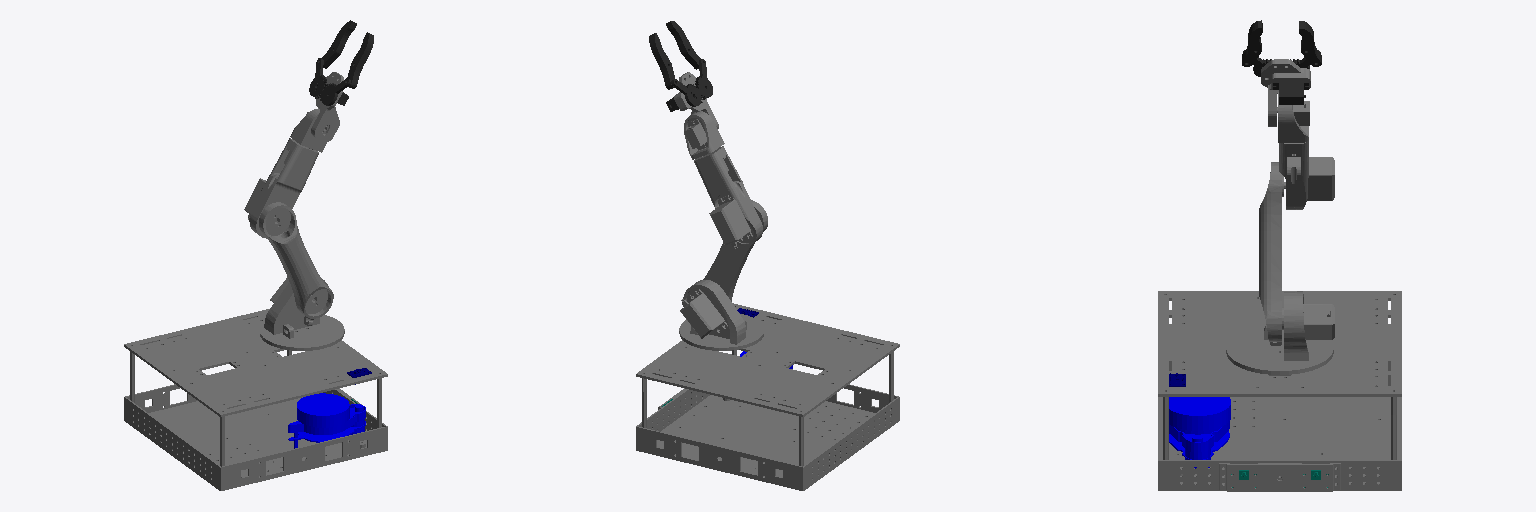
--- What the picture shows (computed from the rendered views, not written in the file) ---
3 views of the same robot in one strip: view 1: azimuth 30°, elevation 25°; view 2: azimuth 150°, elevation 25°; view 3: azimuth 270°, elevation 25° (orthographic).
Robot: mobile_base_arm — 21 links, 20 joints (7 revolute, 4 continuous, 9 fixed); root link base_link; default pose: all joints at 0.
Visible links, largest first — view 1: base_link, link_2, link_1, lidar_link, link_3, link_5, link_4, eef_finger_link_2, eef_finger_link_1; view 2: base_link, link_3, link_2, link_1, link_5, link_4, eef_finger_link_1, eef_finger_link_2, eef_link_1; view 3: base_link, link_2, link_1, lidar_link, camera_link, link_3, link_5, link_4, eef_link_1, eef_finger_link_1, eef_finger_link_2.
Link boxes in pixels (x1,y1,x2,y2): base_link: [124, 309, 387, 490]; link_2: [259, 202, 333, 325]; link_1: [260, 279, 344, 350]; lidar_link: [288, 393, 365, 448]; link_3: [244, 138, 318, 238]; link_5: [307, 72, 343, 141]; link_4: [284, 108, 326, 163]; eef_finger_link_2: [347, 32, 373, 88]; eef_finger_link_1: [321, 20, 356, 68]; base_link: [636, 303, 899, 490]; link_3: [694, 146, 762, 248]; link_2: [680, 200, 767, 338]; link_1: [679, 280, 763, 350]; link_5: [674, 72, 718, 148]; link_4: [684, 111, 728, 171]; eef_finger_link_1: [649, 33, 674, 89]; eef_finger_link_2: [666, 21, 700, 69]; eef_link_1: [666, 79, 702, 111]; base_link: [1158, 291, 1401, 490]; link_2: [1259, 162, 1334, 345]; link_1: [1226, 291, 1333, 374]; lidar_link: [1169, 397, 1230, 468]; camera_link: [1219, 463, 1340, 491]; link_3: [1279, 140, 1334, 209]; link_5: [1261, 59, 1310, 126]; link_4: [1278, 92, 1308, 156]; eef_link_1: [1273, 50, 1320, 104]; eef_finger_link_1: [1299, 21, 1321, 66]; eef_finger_link_2: [1242, 20, 1262, 66].
Size in the robot's own frame: 0.2538 by 0.22 by 0.4808 metres.
Meshes: 21 distinct files referenced, 17 mesh visuals loaded (17 binary STL); not drawn: 4 (reference not matched to a file when rendering).

URDF robot description (mobile_base_arm):
<?xml version="1.0" encoding="utf-8"?>
<!-- This URDF was automatically created by SolidWorks to URDF Exporter! Originally created by Stephen Brawner ([email redacted]) 
     Commit Version: 1.6.0-1-g15f4949  Build Version: 1.6.7594.29634
     For more information, please see http://wiki.ros.org/sw_urdf_exporter -->
<robot
  name="mobile_base_arm">
  <link
    name="base_link">
    <inertial>
      <origin
        xyz="0.000319009600201481 -0.000666770976785788 0.0586004870049367"
        rpy="0 0 0" />
      <mass
        value="0.374892757850051" />
      <inertia
        ixx="0.00148065842547931"
        ixy="4.45853049505942E-06"
        ixz="-2.24476310604444E-08"
        iyy="0.00150620679112831"
        iyz="2.34150704704751E-07"
        izz="0.00296347734947406" />
    </inertial>
    <visual>
      <origin
        xyz="0 0 0"
        rpy="0 0 0" />
      <geometry>
        <mesh
          filename="package://mobile_base_arm/meshes/base_link.STL" />
      </geometry>
      <material
        name="">
        <color
          rgba="0.5 0.5 0.5 1" />
      </material>
    </visual>
    <collision>
      <origin
        xyz="0 0 0"
        rpy="0 0 0" />
      <geometry>
        <mesh
          filename="package://mobile_base_arm/meshes/base_link.STL" />
      </geometry>
    </collision>
  </link>
  <link
    name="fl_wheel_link">
    <inertial>
      <origin
        xyz="5.0515E-15 1.5127E-15 -9.4853E-05"
        rpy="0 0 0" />
      <mass
        value="0.041913" />
      <inertia
        ixx="3.6789E-06"
        ixy="6.9186E-21"
        ixz="-3.6443E-22"
        iyy="3.6789E-06"
        iyz="4.1837E-22"
        izz="3.5669E-06" />
    </inertial>
    <visual>
      <origin
        xyz="0 0 0"
        rpy="0 0 0" />
      <geometry>
        <mesh
          filename="package://mobile_base_arm/meshes/fl_wheel_link.STL" />
      </geometry>
      <material
        name="">
        <color
          rgba="1 1 0 1" />
      </material>
    </visual>
    <collision>
      <origin
        xyz="0 0 0"
        rpy="0 0 0" />
      <geometry>
        <mesh
          filename="package://mobile_base_arm/meshes/fl_wheel_link.STL" />
      </geometry>
    </collision>
  </link>
  <joint
    name="fl_wheel_joint"
    type="continuous">
    <origin
      xyz="0.078747 0.14588 0.029654"
      rpy="1.5708 0 -3.1416" />
    <parent
      link="base_link" />
    <child
      link="fl_wheel_link" />
    <axis
      xyz="0 0 1" />
  </joint>
  <link
    name="bl_wheel_link">
    <inertial>
      <origin
        xyz="2.9421E-15 4.5103E-15 9.4853E-05"
        rpy="0 0 0" />
      <mass
        value="0.041913" />
      <inertia
        ixx="3.6789E-06"
        ixy="4.5166E-21"
        ixz="-3.9322E-22"
        iyy="3.6789E-06"
        iyz="6.8692E-23"
        izz="3.5669E-06" />
    </inertial>
    <visual>
      <origin
        xyz="0 0 0"
        rpy="0 0 0" />
      <geometry>
        <mesh
          filename="package://mobile_base_arm/meshes/bl_wheel_link.STL" />
      </geometry>
      <material
        name="">
        <color
          rgba="1 1 0 1" />
      </material>
    </visual>
    <collision>
      <origin
        xyz="0 0 0"
        rpy="0 0 0" />
      <geometry>
        <mesh
          filename="package://mobile_base_arm/meshes/bl_wheel_link.STL" />
      </geometry>
    </collision>
  </link>
  <joint
    name="bl_wheel_joint"
    type="continuous">
    <origin
      xyz="-0.078453 0.14588 0.029654"
      rpy="1.5708 0 -3.1416" />
    <parent
      link="base_link" />
    <child
      link="bl_wheel_link" />
    <axis
      xyz="0 0 -1" />
  </joint>
  <link
    name="fr_wheel_link">
    <inertial>
      <origin
        xyz="0 1.3878E-17 -7.0631E-05"
        rpy="0 0 0" />
      <mass
        value="0.041913" />
      <inertia
        ixx="3.6789E-06"
        ixy="-7.5704E-21"
        ixz="-2.4967E-21"
        iyy="3.6789E-06"
        iyz="3.1065E-23"
        izz="3.5671E-06" />
    </inertial>
    <visual>
      <origin
        xyz="0 0 0"
        rpy="0 0 0" />
      <geometry>
        <mesh
          filename="package://mobile_base_arm/meshes/fr_wheel_link.STL" />
      </geometry>
      <material
        name="">
        <color
          rgba="1 1 0 1" />
      </material>
    </visual>
    <collision>
      <origin
        xyz="0 0 0"
        rpy="0 0 0" />
      <geometry>
        <mesh
          filename="package://mobile_base_arm/meshes/fr_wheel_link.STL" />
      </geometry>
    </collision>
  </link>
  <joint
    name="fr_wheel_joint"
    type="continuous">
    <origin
      xyz="0.078747 -0.14712 0.029654"
      rpy="1.5708 0 0" />
    <parent
      link="base_link" />
    <child
      link="fr_wheel_link" />
    <axis
      xyz="0 0 1" />
  </joint>
  <link
    name="br_wheel_link">
    <inertial>
      <origin
        xyz="0 1.1102E-16 -7.0631E-05"
        rpy="0 0 0" />
      <mass
        value="0.041913" />
      <inertia
        ixx="3.6789E-06"
        ixy="-8.0203E-21"
        ixz="-1.0462E-21"
        iyy="3.6789E-06"
        iyz="7.9773E-22"
        izz="3.5671E-06" />
    </inertial>
    <visual>
      <origin
        xyz="0 0 0"
        rpy="0 0 0" />
      <geometry>
        <mesh
          filename="package://mobile_base_arm/meshes/br_wheel_link.STL" />
      </geometry>
      <material
        name="">
        <color
          rgba="1 1 0 1" />
      </material>
    </visual>
    <collision>
      <origin
        xyz="0 0 0"
        rpy="0 0 0" />
      <geometry>
        <mesh
          filename="package://mobile_base_arm/meshes/br_wheel_link.STL" />
      </geometry>
    </collision>
  </link>
  <joint
    name="br_wheel_joint"
    type="continuous">
    <origin
      xyz="-0.078453 -0.14712 0.029654"
      rpy="1.5708 0 0" />
    <parent
      link="base_link" />
    <child
      link="br_wheel_link" />
    <axis
      xyz="0 0 1" />
  </joint>
  <link
    name="lidar_link">
    <inertial>
      <origin
        xyz="0.0059879 6.8946E-07 -0.0087379"
        rpy="0 0 0" />
      <mass
        value="0.090024" />
      <inertia
        ixx="2.0425E-05"
        ixy="2.8228E-09"
        ixz="2.9686E-06"
        iyy="3.8887E-05"
        iyz="8.5101E-10"
        izz="5.2888E-05" />
    </inertial>
    <visual>
      <origin
        xyz="0 0 0"
        rpy="0 0 0" />
      <geometry>
        <mesh
          filename="package://mobile_base_arm/meshes/lidar_link.STL" />
      </geometry>
      <material
        name="">
        <color
          rgba="0 0 1 1" />
      </material>
    </visual>
    <collision>
      <origin
        xyz="0 0 0"
        rpy="0 0 0" />
      <geometry>
        <mesh
          filename="package://mobile_base_arm/meshes/lidar_link.STL" />
      </geometry>
    </collision>
  </link>
  <joint
    name="lidar_joint"
    type="fixed">
    <origin
      xyz="0.045447 -0.074817 0.0658"
      rpy="0 0 0" />
    <parent
      link="base_link" />
    <child
      link="lidar_link" />
    <axis
      xyz="0 0 0" />
  </joint>
  <link
    name="link_1">
    <inertial>
      <origin
        xyz="0.001372 0.0064346 0.017289"
        rpy="0 0 0" />
      <mass
        value="0.068038" />
      <inertia
        ixx="4.5018E-05"
        ixy="-6.4176E-07"
        ixz="-6.2427E-06"
        iyy="5.8133E-05"
        iyz="-5.1777E-06"
        izz="5.4676E-05" />
    </inertial>
    <visual>
      <origin
        xyz="0 0 0"
        rpy="0 0 0" />
      <geometry>
        <mesh
          filename="package://mobile_base_arm/meshes/link_1.STL" />
      </geometry>
      <material
        name="">
        <color
          rgba="0.5 0.5 0.5 1" />
      </material>
    </visual>
    <collision>
      <origin
        xyz="0 0 0"
        rpy="0 0 0" />
      <geometry>
        <mesh
          filename="package://mobile_base_arm/meshes/link_1.STL" />
      </geometry>
    </collision>
  </link>
  <joint
    name="joint_1"
    type="revolute">
    <origin
      xyz="0.060647 -0.00061982 0.1296"
      rpy="0 0 0" />
    <parent
      link="base_link" />
    <child
      link="link_1" />
    <axis
      xyz="0 0 1" />
    <limit
      lower="-3.1416"
      upper="3.1416"
      effort="0"
      velocity="0" />
  </joint>
  <link
    name="link_2">
    <inertial>
      <origin
        xyz="-0.018035 0.032676 -0.0042316"
        rpy="0 0 0" />
      <mass
        value="0.098269" />
      <inertia
        ixx="9.8625E-05"
        ixy="3.4452E-05"
        ixz="-2.9438E-07"
        iyy="3.294E-05"
        iyz="2.1721E-08"
        izz="0.00011786" />
    </inertial>
    <visual>
      <origin
        xyz="0 0 0"
        rpy="0 0 0" />
      <geometry>
        <mesh
          filename="package://mobile_base_arm/meshes/link_2.STL" />
      </geometry>
      <material
        name="">
        <color
          rgba="0.5 0.5 0.5 1" />
      </material>
    </visual>
    <collision>
      <origin
        xyz="0 0 0"
        rpy="0 0 0" />
      <geometry>
        <mesh
          filename="package://mobile_base_arm/meshes/link_2.STL" />
      </geometry>
    </collision>
  </link>
  <joint
    name="joint_2"
    type="revolute">
    <origin
      xyz="0.013741729606692 0.00180000000000001 0.0404532568712298"
      rpy="1.5707963267949 0 0" />
    <parent
      link="link_1" />
    <child
      link="link_2" />
    <axis
      xyz="0 0 1" />
    <limit
      lower="-1.4"
      upper="1.4"
      effort="0"
      velocity="0" />
  </joint>
  <link
    name="link_3">
    <inertial>
      <origin
        xyz="0.013721 0.023715 -0.017225"
        rpy="0 0 0" />
      <mass
        value="0.084145" />
      <inertia
        ixx="5.1677E-05"
        ixy="-2.1371E-05"
        ixz="2.867E-07"
        iyy="2.7629E-05"
        iyz="4.8877E-07"
        izz="6.4165E-05" />
    </inertial>
    <visual>
      <origin
        xyz="0 0 0"
        rpy="0 0 0" />
      <geometry>
        <mesh
          filename="package://mobile_base_arm/meshes/link_3.STL" />
      </geometry>
      <material
        name="">
        <color
          rgba="0.5 0.5 0.5 1" />
      </material>
    </visual>
    <collision>
      <origin
        xyz="0 0 0"
        rpy="0 0 0" />
      <geometry>
        <mesh
          filename="package://mobile_base_arm/meshes/link_3.STL" />
      </geometry>
    </collision>
  </link>
  <joint
    name="joint_3"
    type="revolute">
    <origin
      xyz="-0.0486912069159769 0.109677556359838 0"
      rpy="0 0 0" />
    <parent
      link="link_2" />
    <child
      link="link_3" />
    <axis
      xyz="0 0 1" />
    <limit
      lower="-1.4"
      upper="1.4"
      effort="0"
      velocity="0" />
  </joint>
  <link
    name="link_4">
    <inertial>
      <origin
        xyz="0.00023919 -0.0034536 0.0072121"
        rpy="0 0 0" />
      <mass
        value="0.023628" />
      <inertia
        ixx="4.3645E-06"
        ixy="3.9934E-09"
        ixz="-4.8582E-08"
        iyy="5.6713E-06"
        iyz="5.7578E-07"
        izz="2.9871E-06" />
    </inertial>
    <visual>
      <origin
        xyz="0 0 0"
        rpy="0 0 0" />
      <geometry>
        <mesh
          filename="package://mobile_base_arm/meshes/link_4.STL" />
      </geometry>
      <material
        name="">
        <color
          rgba="0.5 0.5 0.5 1" />
      </material>
    </visual>
    <collision>
      <origin
        xyz="0 0 0"
        rpy="0 0 0" />
      <geometry>
        <mesh
          filename="package://mobile_base_arm/meshes/link_4.STL" />
      </geometry>
    </collision>
  </link>
  <joint
    name="joint_4"
    type="revolute">
    <origin
      xyz="0.0462467946124107 0.0790683813413976 -0.0104772836816603"
      rpy="-1.5707963267949 0 -0.530574095256852" />
    <parent
      link="link_3" />
    <child
      link="link_4" />
    <axis
      xyz="0 0 1" />
    <limit
      lower="-1.4"
      upper="1.4"
      effort="0"
      velocity="0" />
  </joint>
  <link
    name="link_5">
    <inertial>
      <origin
        xyz="0.014865 0.0034873 -0.006785"
        rpy="0 0 0" />
      <mass
        value="0.02285" />
      <inertia
        ixx="2.932E-06"
        ixy="-1.1857E-06"
        ixz="1.4019E-06"
        iyy="8.8454E-06"
        iyz="3.0497E-07"
        izz="7.6221E-06" />
    </inertial>
    <visual>
      <origin
        xyz="0 0 0"
        rpy="0 0 0" />
      <geometry>
        <mesh
          filename="package://mobile_base_arm/meshes/link_5.STL" />
      </geometry>
      <material
        name="">
        <color
          rgba="0.5 0.5 0.5 1" />
      </material>
    </visual>
    <collision>
      <origin
        xyz="0 0 0"
        rpy="0 0 0" />
      <geometry>
        <mesh
          filename="package://mobile_base_arm/meshes/link_5.STL" />
      </geometry>
    </collision>
  </link>
  <joint
    name="joint_5"
    type="revolute">
    <origin
      xyz="0.00017223 -0.015127 0.028"
      rpy="1.5708 -1.5708 0" />
    <parent
      link="link_4" />
    <child
      link="link_5" />
    <axis
      xyz="0 0 1" />
    <limit
      lower="-1.4"
      upper="1.4"
      effort="0"
      velocity="0" />
  </joint>
  <link
    name="eef_link_1">
    <inertial>
      <origin
        xyz="-0.0013154 -0.0026977 0.011688"
        rpy="0 0 0" />
      <mass
        value="0.0096944" />
      <inertia
        ixx="8.3937E-07"
        ixy="1.3228E-07"
        ixz="1.5882E-22"
        iyy="7.1486E-07"
        iyz="3.7047E-08"
        izz="8.2078E-07" />
    </inertial>
    <visual>
      <origin
        xyz="0 0 0"
        rpy="0 0 0" />
      <geometry>
        <mesh
          filename="package://mobile_base_arm/meshes/eef_link_1.STL" />
      </geometry>
      <material
        name="">
        <color
          rgba="0.2 0.2 0.2 1" />
      </material>
    </visual>
    <collision>
      <origin
        xyz="0 0 0"
        rpy="0 0 0" />
      <geometry>
        <mesh
          filename="package://mobile_base_arm/meshes/eef_link_1.STL" />
      </geometry>
    </collision>
  </link>
  <joint
    name="eef_joint_1"
    type="revolute">
    <origin
      xyz="0.038466720887356 0.014139797883076 -0.0179"
      rpy="-1.5707963267949 0 3.10994225522667" />
    <parent
      link="link_5" />
    <child
      link="eef_link_1" />
    <axis
      xyz="0 0 -1" />
    <limit
      lower="-1"
      upper="1"
      effort="0"
      velocity="0" />
  </joint>
  <link
    name="eef_finger_link_1">
    <inertial>
      <origin
        xyz="-0.026471 -0.0065368 0.00074998"
        rpy="0 0 0" />
      <mass
        value="0.0053975" />
      <inertia
        ixx="1.3369E-07"
        ixy="-2.5928E-07"
        ixz="-1.0206E-12"
        iyy="1.6452E-06"
        iyz="-1.3992E-11"
        izz="1.7139E-06" />
    </inertial>
    <visual>
      <origin
        xyz="0 0 0"
        rpy="0 0 0" />
      <geometry>
        <mesh
          filename="package://mobile_base_arm/meshes/eef_finger_link_1.STL" />
      </geometry>
      <material
        name="">
        <color
          rgba="0.2 0.2 0.2 1" />
      </material>
    </visual>
    <collision>
      <origin
        xyz="0 0 0"
        rpy="0 0 0" />
      <geometry>
        <mesh
          filename="package://mobile_base_arm/meshes/eef_finger_link_1.STL" />
      </geometry>
    </collision>
  </link>
  <joint
    name="eef_finger_joint_1"
    type="fixed">
    <origin
      xyz="-0.0250754321495898 0.0177984606781366 0.00134999999999999"
      rpy="0 0 0" />
    <parent
      link="eef_link_1" />
    <child
      link="eef_finger_link_1" />
    <axis
      xyz="0 0 0" />
  </joint>
  <link
    name="eef_link_2">
    <inertial>
      <origin
        xyz="-0.004888 -0.0027553 -0.00415"
        rpy="0 0 0" />
      <mass
        value="0.0026416" />
      <inertia
        ixx="1.9158E-07"
        ixy="-1.3273E-07"
        ixz="1.3235E-22"
        iyy="2.6271E-07"
        iyz="6.6174E-24"
        izz="4.4724E-07" />
    </inertial>
    <visual>
      <origin
        xyz="0 0 0"
        rpy="0 0 0" />
      <geometry>
        <mesh
          filename="package://mobile_base_arm/meshes/eef_link_2.STL" />
      </geometry>
      <material
        name="">
        <color
          rgba="0.2 0.2 0.2 1" />
      </material>
    </visual>
    <collision>
      <origin
        xyz="0 0 0"
        rpy="0 0 0" />
      <geometry>
        <mesh
          filename="package://mobile_base_arm/meshes/eef_link_2.STL" />
      </geometry>
    </collision>
  </link>
  <joint
    name="eef_joint_2"
    type="revolute">
    <origin
      xyz="0.038466720887356 0.014139797883076 0.00899999999999998"
      rpy="-1.5707963267949 0 3.10994225522667" />
    <parent
      link="link_5" />
    <child
      link="eef_link_2" />
    <axis
      xyz="0 0 -1" />
    <limit
      lower="-1"
      upper="1"
      effort="0"
      velocity="0" />
  </joint>
  <link
    name="eef_finger_link_2">
    <inertial>
      <origin
        xyz="-0.026643 0.0057965 0.00075002"
        rpy="0 0 0" />
      <mass
        value="0.0053975" />
      <inertia
        ixx="1.2042E-07"
        ixy="2.1676E-07"
        ixz="1.4115E-12"
        iyy="1.6585E-06"
        iyz="-1.3958E-11"
        izz="1.7139E-06" />
    </inertial>
    <visual>
      <origin
        xyz="0 0 0"
        rpy="0 0 0" />
      <geometry>
        <mesh
          filename="package://mobile_base_arm/meshes/eef_finger_link_2.STL" />
      </geometry>
      <material
        name="">
        <color
          rgba="0.2 0.2 0.2 1" />
      </material>
    </visual>
    <collision>
      <origin
        xyz="0 0 0"
        rpy="0 0 0" />
      <geometry>
        <mesh
          filename="package://mobile_base_arm/meshes/eef_finger_link_2.STL" />
      </geometry>
    </collision>
  </link>
  <joint
    name="eef_finger_joint_2"
    type="fixed">
    <origin
      xyz="-0.025013 -0.017886 0.00135"
      rpy="0 0 0" />
    <parent
      link="eef_link_2" />
    <child
      link="eef_finger_link_2" />
    <axis
      xyz="0 0 0" />
  </joint>
  <!-- <link
    name="MPU9250_fl">
    <inertial>
      <origin
        xyz="-0.00044106 8.8161E-05 -0.0010426"
        rpy="0 0 0" />
      <mass
        value="0.00062885" />
      <inertia
        ixx="2.8418E-08"
        ixy="-4.5775E-14"
        ixz="-3.7528E-14"
        iyy="1.0661E-08"
        iyz="4.2588E-14"
        izz="3.7595E-08" />
    </inertial>
    <visual>
      <origin
        xyz="0 0 0"
        rpy="0 0 0" />
      <geometry>
        <mesh
          filename="package://mobile_base_arm/meshes/MPU9250_fl.STL" />
      </geometry>
      <material
        name="">
        <color
          rgba="0 0 0.5 1" />
      </material>
    </visual>
    <collision>
      <origin
        xyz="0 0 0"
        rpy="0 0 0" />
      <geometry>
        <mesh
          filename="package://mobile_base_arm/meshes/MPU9250_fl.STL" />
      </geometry>
    </collision>
  </link>
  <joint
    name="MPU9250_fl_joint"
    type="fixed">
    <origin
      xyz="0.082447 0.092197 0.11257"
      rpy="0 0 -1.5708" />
    <parent
      link="base_link" />
    <child
      link="MPU9250_fl" />
    <axis
      xyz="0 0 0" />
  </joint>
  <link
    name="MPU6050_fl">
    <inertial>
      <origin
        xyz="-0.00081359 5.5683E-05 -0.00080828"
        rpy="0 0 0" />
      <mass
        value="0.0010017" />
      <inertia
        ixx="3.0394E-08"
        ixy="1.306E-11"
        ixz="-6.2461E-14"
        iyy="1.6953E-08"
        iyz="3.3681E-18"
        izz="4.6329E-08" />
    </inertial>
    <visual>
      <origin
        xyz="0 0 0"
        rpy="0 0 0" />
      <geometry>
        <mesh
          filename="package://mobile_base_arm/meshes/MPU6050_fl.STL" />
      </geometry>
      <material
        name="">
        <color
          rgba="0 0 0.5 1" />
      </material>
    </visual>
    <collision>
      <origin
        xyz="0 0 0"
        rpy="0 0 0" />
      <geometry>
        <mesh
          filename="package://mobile_base_arm/meshes/MPU6050_fl.STL" />
      </geometry>
    </collision>
  </link>
  <joint
    name="MPU6050_fl_joint"
    type="fixed">
    <origin
      xyz="0.049694 0.091495 0.11214"
      rpy="0 0 -1.5708" />
    <parent
      link="base_link" />
    <child
      link="MPU6050_fl" />
    <axis
      xyz="0 0 0" />
  </joint> -->
  <link
    name="MPU9250_fr">
    <inertial>
      <origin
        xyz="-0.00044106 8.8161E-05 -0.0010426"
        rpy="0 0 0" />
      <mass
        value="0.00062885" />
      <inertia
        ixx="2.8418E-08"
        ixy="-4.5775E-14"
        ixz="-3.7528E-14"
        iyy="1.0661E-08"
        iyz="4.2588E-14"
        izz="3.7595E-08" />
    </inertial>
    <visual>
      <origin
        xyz="0 0 0"
        rpy="0 0 1.5708" />
      <geometry>
        <mesh
          filename="package://mobile_base_arm/meshes/MPU9250_fr.STL" />
      </geometry>
      <material
        name="">
        <color
          rgba="0 0 0.5 1" />
      </material>
    </visual>
    <collision>
      <origin
        xyz="0 0 0"
        rpy="0 0 1.5708" />
      <geometry>
        <mesh
          filename="package://mobile_base_arm/meshes/MPU9250_fr.STL" />
      </geometry>
    </collision>
  </link>
  <joint
    name="MPU9250_fr_joint"
    type="fixed">
    <origin
      xyz="0.082437 -0.093437 0.11257"
      rpy="0 0 0" />
    <parent
      link="base_link" />
    <child
      link="MPU9250_fr" />
    <axis
      xyz="0 0 0" />
  </joint>
  <!-- <link
    name="MPU6050_fr">
    <inertial>
      <origin
        xyz="-0.00081359 5.5683E-05 -0.00080828"
        rpy="0 0 0" />
      <mass
        value="0.0010017" />
      <inertia
        ixx="3.0394E-08"
        ixy="1.306E-11"
        ixz="-6.2461E-14"
        iyy="1.6953E-08"
        iyz="3.3681E-18"
        izz="4.6329E-08" />
    </inertial>
    <visual>
      <origin
        xyz="0 0 0"
        rpy="0 0 0" />
      <geometry>
        <mesh
          filename="package://mobile_base_arm/meshes/MPU6050_fr.STL" />
      </geometry>
      <material
        name="">
        <color
          rgba="0 0 0.5 1" />
      </material>
    </visual>
    <collision>
      <origin
        xyz="0 0 0"
        rpy="0 0 0" />
      <geometry>
        <mesh
          filename="package://mobile_base_arm/meshes/MPU6050_fr.STL" />
      </geometry>
    </collision>
  </link>
  <joint
    name="MPU6050_fr_joint"
    type="fixed">
    <origin
      xyz="0.04946 -0.092735 0.11214"
      rpy="0 0 1.5708" />
    <parent
      link="base_link" />
    <child
      link="MPU6050_fr" />
    <axis
      xyz="0 0 0" />
  </joint>
  <link
    name="MPU9250_bl">
    <inertial>
      <origin
        xyz="-0.00044106 8.8161E-05 -0.0010426"
        rpy="0 0 0" />
      <mass
        value="0.00062885" />
      <inertia
        ixx="2.8418E-08"
        ixy="-4.5775E-14"
        ixz="-3.7528E-14"
        iyy="1.0661E-08"
        iyz="4.2588E-14"
        izz="3.7595E-08" />
    </inertial>
    <visual>
      <origin
        xyz="0 0 0"
        rpy="0 0 0" />
      <geometry>
        <mesh
          filename="package://mobile_base_arm/meshes/MPU9250_bl.STL" />
      </geometry>
      <material
        name="">
        <color
          rgba="0 0 0.5 1" />
      </material>
    </visual>
    <collision>
      <origin
        xyz="0 0 0"
        rpy="0 0 0" />
      <geometry>
        <mesh
          filename="package://mobile_base_arm/meshes/MPU9250_bl.STL" />
      </geometry>
    </collision>
  </link>
  <joint
    name="MPU9250_bl_joint"
    type="fixed">
    <origin
      xyz="-0.082143 0.092197 0.11257"
      rpy="0 0 -1.5708" />
    <parent
      link="base_link" />
    <child
      link="MPU9250_bl" />
    <axis
      xyz="0 0 0" />
  </joint>
  <link
    name="MPU6050_bl">
    <inertial>
      <origin
        xyz="-0.00081359 5.5683E-05 -0.00080828"
        rpy="0 0 0" />
      <mass
        value="0.0010017" />
      <inertia
        ixx="3.0394E-08"
        ixy="1.306E-11"
        ixz="-6.2461E-14"
        iyy="1.6953E-08"
        iyz="3.3681E-18"
        izz="4.6329E-08" />
    </inertial>
    <visual>
      <origin
        xyz="0 0 0"
        rpy="0 0 0" />
      <geometry>
        <mesh
          filename="package://mobile_base_arm/meshes/MPU6050_bl.STL" />
      </geometry>
      <material
        name="">
        <color
          rgba="0 0 0.5 1" />
      </material>
    </visual>
    <collision>
      <origin
        xyz="0 0 0"
        rpy="0 0 0" />
      <geometry>
        <mesh
          filename="package://mobile_base_arm/meshes/MPU6050_bl.STL" />
      </geometry>
    </collision>
  </link>
  <joint
    name="MPU6050_bl_joint"
    type="fixed">
    <origin
      xyz="-0.049166 0.091495 0.11214"
      rpy="0 0 -1.5708" />
    <parent
      link="base_link" />
    <child
      link="MPU6050_bl" />
    <axis
      xyz="0 0 0" />
  </joint>
  <link
    name="MPU9250_br">
    <inertial>
      <origin
        xyz="-0.00044106 8.8161E-05 -0.0010426"
        rpy="0 0 0" />
      <mass
        value="0.00062885" />
      <inertia
        ixx="2.8418E-08"
        ixy="-4.5775E-14"
        ixz="-3.7528E-14"
        iyy="1.0661E-08"
        iyz="4.2588E-14"
        izz="3.7595E-08" />
    </inertial>
    <visual>
      <origin
        xyz="0 0 0"
        rpy="0 0 0" />
      <geometry>
        <mesh
          filename="package://mobile_base_arm/meshes/MPU9250_br.STL" />
      </geometry>
      <material
        name="">
        <color
          rgba="0 0 0.5 1" />
      </material>
    </visual>
    <collision>
      <origin
        xyz="0 0 0"
        rpy="0 0 0" />
      <geometry>
        <mesh
          filename="package://mobile_base_arm/meshes/MPU9250_br.STL" />
      </geometry>
    </collision>
  </link>
  <joint
    name="MPU9250_br_joint"
    type="fixed">
    <origin
      xyz="-0.082153 -0.093437 0.11257"
      rpy="0 0 1.5708" />
    <parent
      link="base_link" />
    <child
      link="MPU9250_br" />
    <axis
      xyz="0 0 0" />
  </joint>
  <link
    name="MPU6050_br">
    <inertial>
      <origin
        xyz="-0.00081359 5.5683E-05 -0.00080828"
        rpy="0 0 0" />
      <mass
        value="0.0010017" />
      <inertia
        ixx="3.0394E-08"
        ixy="1.306E-11"
        ixz="-6.2461E-14"
        iyy="1.6953E-08"
        iyz="3.3681E-18"
        izz="4.6329E-08" />
    </inertial>
    <visual>
      <origin
        xyz="0 0 0"
        rpy="0 0 0" />
      <geometry>
        <mesh
          filename="package://mobile_base_arm/meshes/MPU6050_br.STL" />
      </geometry>
      <material
        name="">
        <color
          rgba="0 0 0.5 1" />
      </material>
    </visual>
    <collision>
      <origin
        xyz="0 0 0"
        rpy="0 0 0" />
      <geometry>
        <mesh
          filename="package://mobile_base_arm/meshes/MPU6050_br.STL" />
      </geometry>
    </collision>
  </link>
  <joint
    name="MPU6050_br_joint"
    type="fixed">
    <origin
      xyz="-0.049405 -0.092735 0.11214"
      rpy="0 0 1.5708" />
    <parent
      link="base_link" />
    <child
      link="MPU6050_br" />
    <axis
      xyz="0 0 0" />
  </joint> -->
  <link
    name="camera_link">
    <inertial>
      <origin
        xyz="0 0 0"
        rpy="0 0 0" />
      <mass
        value="0" />
      <inertia
        ixx="0"
        ixy="0"
        ixz="0"
        iyy="0"
        iyz="0"
        izz="0" />
    </inertial>
    <visual>
      <origin
        xyz="0 0 0"
        rpy="0 0 0" />
      <geometry>
        <mesh
          filename="package://mobile_base_arm/meshes/camera_link.STL" />
      </geometry>
      <material
        name="">
        <color
          rgba="0.5 0.5 0.5 1" />
      </material>
    </visual>
    <collision>
      <origin
        xyz="0 0 0"
        rpy="0 0 0" />
      <geometry>
        <mesh
          filename="package://mobile_base_arm/meshes/camera_link.STL" />
      </geometry>
    </collision>
  </link>
  <joint
    name="camera_joint"
    type="fixed">
    <origin
      xyz="0.11165 -0.00061982 0.03"
      rpy="0 0 0" />
    <parent
      link="base_link" />
    <child
      link="camera_link" />
    <axis
      xyz="0 0 0" />
  </joint>
  <link
    name="rgb_right_link">
    <inertial>
      <origin
        xyz="-0.47142 -0.0775 0.07745"
        rpy="0 0 0" />
      <mass
        value="0" />
      <inertia
        ixx="0"
        ixy="0"
        ixz="0"
        iyy="0"
        iyz="0"
        izz="0" />
    </inertial>
    <visual>
      <origin
        xyz="0 0 0"
        rpy="0 0 0" />
      <geometry>
        <mesh
          filename="package://mobile_base_arm/meshes/rgb_right_link.STL" />
      </geometry>
      <material
        name="">
        <color
          rgba="0.0353 0.47451 0.41176 1" />
      </material>
    </visual>
    <collision>
      <origin
        xyz="0 0 0"
        rpy="0 0 0" />
      <geometry>
        <mesh
          filename="package://mobile_base_arm/meshes/rgb_right_link.STL" />
      </geometry>
    </collision>
  </link>
  <joint
    name="rgb_right_joint"
    type="fixed">
    <origin
      xyz="0.0056 -0.0325 0.00355"
      rpy="0 0 0" />
    <parent
      link="camera_link" />
    <child
      link="rgb_right_link" />
    <axis
      xyz="0 0 0" />
  </joint>
  <link
    name="rgb_right_link_optical">
    <inertial>
      <origin
        xyz="0.0775 -0.07745 -0.47142"
        rpy="0 0 0" />
      <mass
        value="0" />
      <inertia
        ixx="0"
        ixy="0"
        ixz="0"
        iyy="0"
        iyz="0"
        izz="0" />
    </inertial>
    <visual>
      <origin
        xyz="0 0 0"
        rpy="0 0 0" />
      <geometry>
        <mesh
          filename="package://mobile_base_arm/meshes/rgb_right_link_optical.STL" />
      </geometry>
      <material
        name="">
        <color
          rgba="0.0353 0.47451 0.41176 1" />
      </material>
    </visual>
    <collision>
      <origin
        xyz="0 0 0"
        rpy="0 0 0" />
      <geometry>
        <mesh
          filename="package://mobile_base_arm/meshes/rgb_right_link_optical.STL" />
      </geometry>
    </collision>
  </link>
  <joint
    name="rgb_right_optical_joint"
    type="fixed">
    <origin
      xyz="0.0056 -0.0325 0.00355"
      rpy="-1.5708 0 -1.5708" />
    <parent
      link="camera_link" />
    <child
      link="rgb_right_link_optical" />
    <axis
      xyz="0 0 0" />
  </joint>
  <link
    name="rgb_left_link">
    <inertial>
      <origin
        xyz="-0.47142 -0.1425 0.07745"
        rpy="0 0 0" />
      <mass
        value="0" />
      <inertia
        ixx="0"
        ixy="0"
        ixz="0"
        iyy="0"
        iyz="0"
        izz="0" />
    </inertial>
    <visual>
      <origin
        xyz="0 0 0"
        rpy="0 0 0" />
      <geometry>
        <mesh
          filename="package://mobile_base_arm/meshes/rgb_left_link.STL" />
      </geometry>
      <material
        name="">
        <color
          rgba="0.0353 0.47451 0.41176 1" />
      </material>
    </visual>
    <collision>
      <origin
        xyz="0 0 0"
        rpy="0 0 0" />
      <geometry>
        <mesh
          filename="package://mobile_base_arm/meshes/rgb_left_link.STL" />
      </geometry>
    </collision>
  </link>
  <joint
    name="rgb_left_joint"
    type="fixed">
    <origin
      xyz="0.0055995 0.0325 0.00355"
      rpy="0 0 0" />
    <parent
      link="camera_link" />
    <child
      link="rgb_left_link" />
    <axis
      xyz="1 0 0" />
    <limit
      lower="0"
      upper="0"
      effort="0"
      velocity="0" />
  </joint>
  <link
    name="rgb_left_link_optical">
    <inertial>
      <origin
        xyz="0.1425 -0.07745 -0.47142"
        rpy="0 0 0" />
      <mass
        value="0" />
      <inertia
        ixx="0"
        ixy="0"
        ixz="0"
        iyy="0"
        iyz="0"
        izz="0" />
    </inertial>
    <visual>
      <origin
        xyz="0 0 0"
        rpy="0 0 0" />
      <geometry>
        <mesh
          filename="package://mobile_base_arm/meshes/rgb_left_link_optical.STL" />
      </geometry>
      <material
        name="">
        <color
          rgba="0.0353 0.47451 0.41176 1" />
      </material>
    </visual>
    <collision>
      <origin
        xyz="0 0 0"
        rpy="0 0 0" />
      <geometry>
        <mesh
          filename="package://mobile_base_arm/meshes/rgb_left_link_optical.STL" />
      </geometry>
    </collision>
  </link>
  <joint
    name="rgb_left_optical_joint"
    type="fixed">
    <origin
      xyz="0.0055995 0.0325 0.00355"
      rpy="-1.5708 0 -1.5708" />
    <parent
      link="camera_link" />
    <child
      link="rgb_left_link_optical" />
    <axis
      xyz="0 0 1" />
    <limit
      lower="0"
      upper="0"
      effort="0"
      velocity="0" />
  </joint>
</robot>
